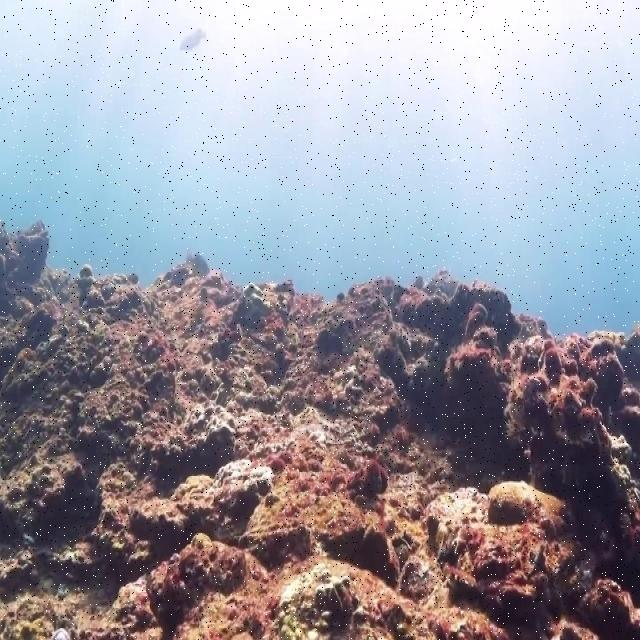sea-floor: (0, 220, 639, 639)
